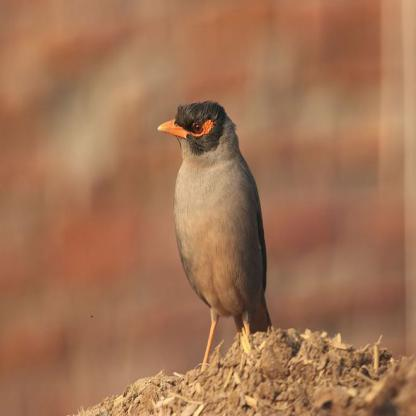Burung: (158, 97, 273, 383)
